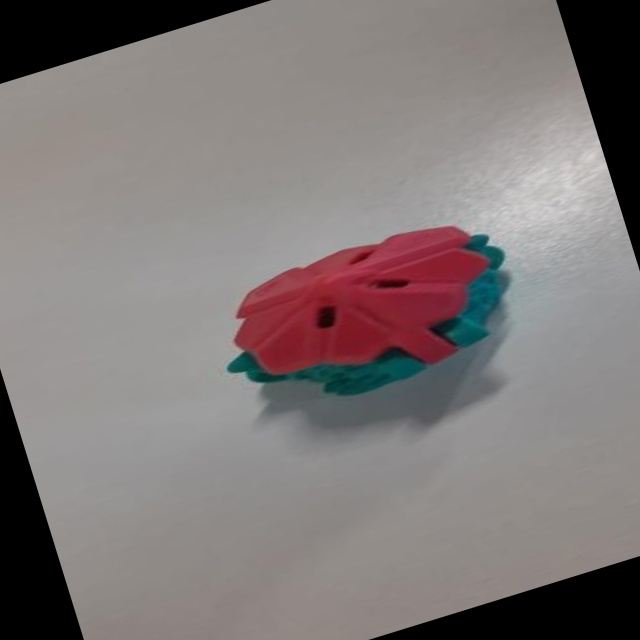House: (199, 189, 548, 439)
